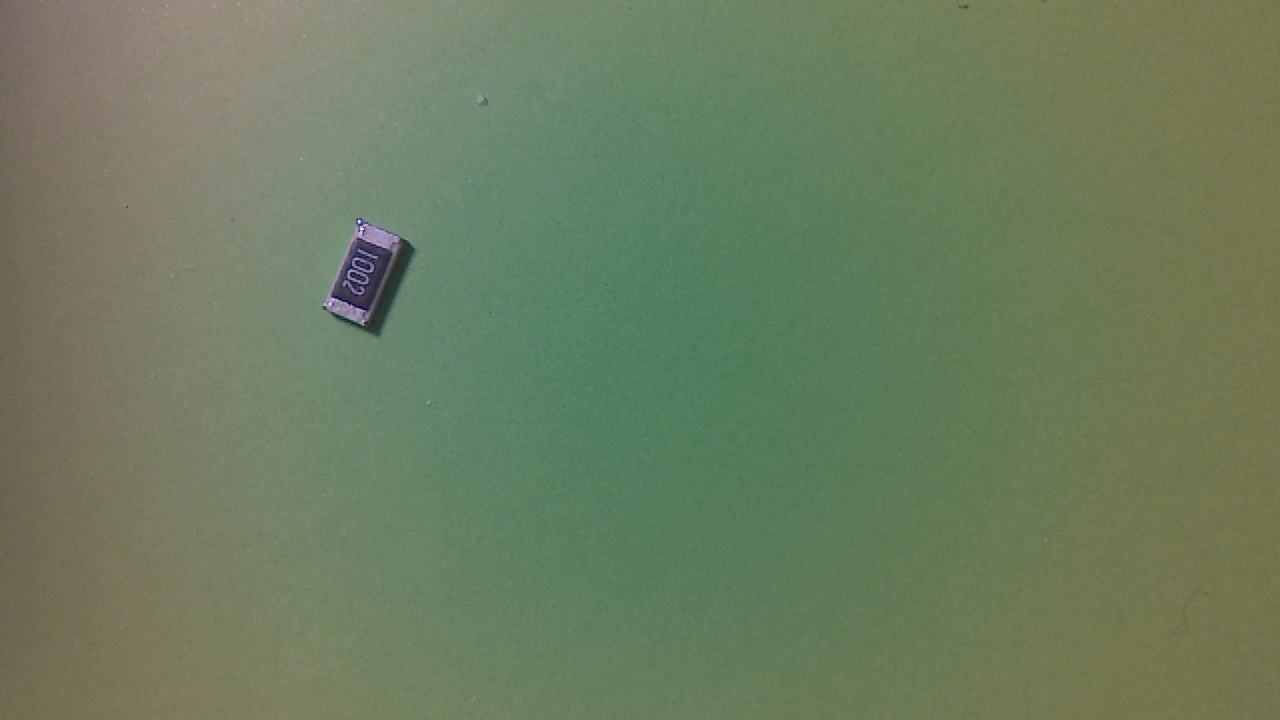Resistor: (325, 219, 417, 338)
